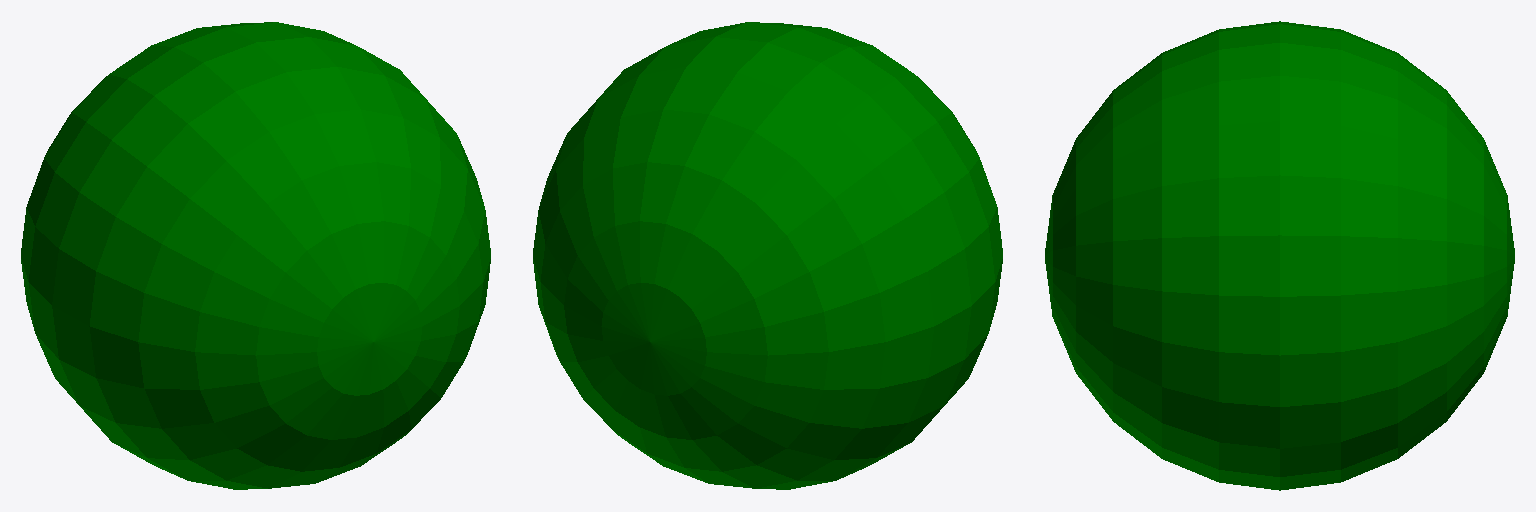
The picture shows the model from 3 angles: view 1: azimuth 30°, elevation 25°; view 2: azimuth 150°, elevation 25°; view 3: azimuth 270°, elevation 25°; orthographic projection.
Visible parts, largest first — view 1: solid1_4, top__6_1_5; view 2: solid1_4, top__6_1_5; view 3: solid1_4, top__6_1_5.
Part boxes in pixels (x1,y1,x2,y2): solid1_4: (21,23,490,488); top__6_1_5: (156,22,355,107); solid1_4: (533,23,1002,488); top__6_1_5: (668,22,867,107); solid1_4: (1045,21,1514,490); top__6_1_5: (1180,22,1379,107).
Bounding box in the file's own units: 2.25 × 2.25 × 2.25.